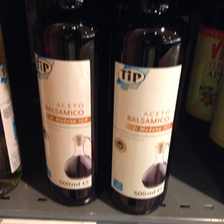vinegar: (110, 1, 190, 216), (31, 1, 105, 207)
